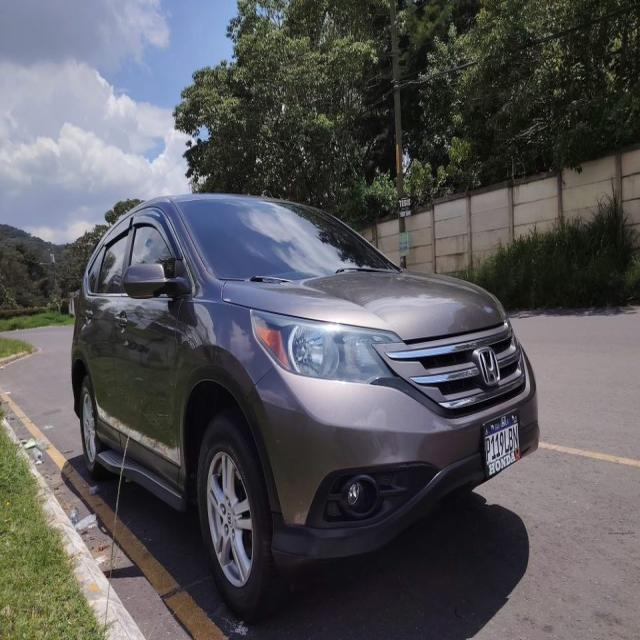Placas: (477, 408, 525, 482)
